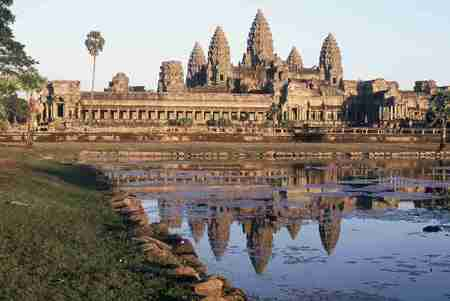Hindu Temple: (37, 2, 419, 127)
